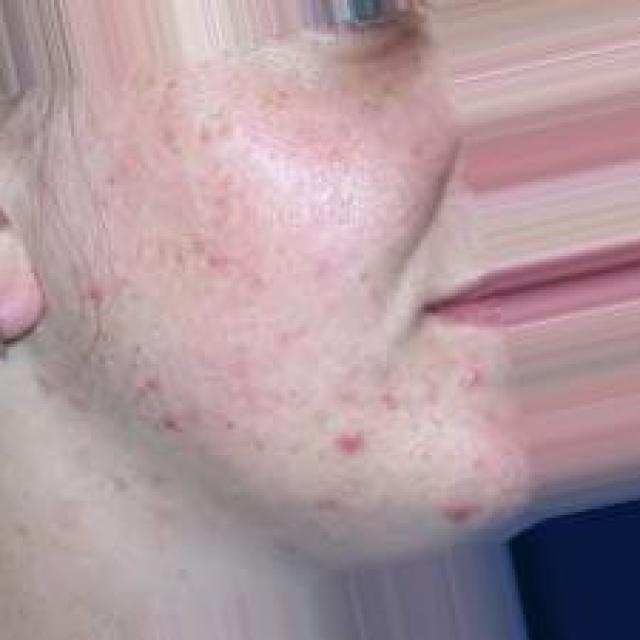acne: (318, 396, 384, 466), (129, 375, 194, 437), (432, 481, 498, 542), (453, 355, 496, 401)
